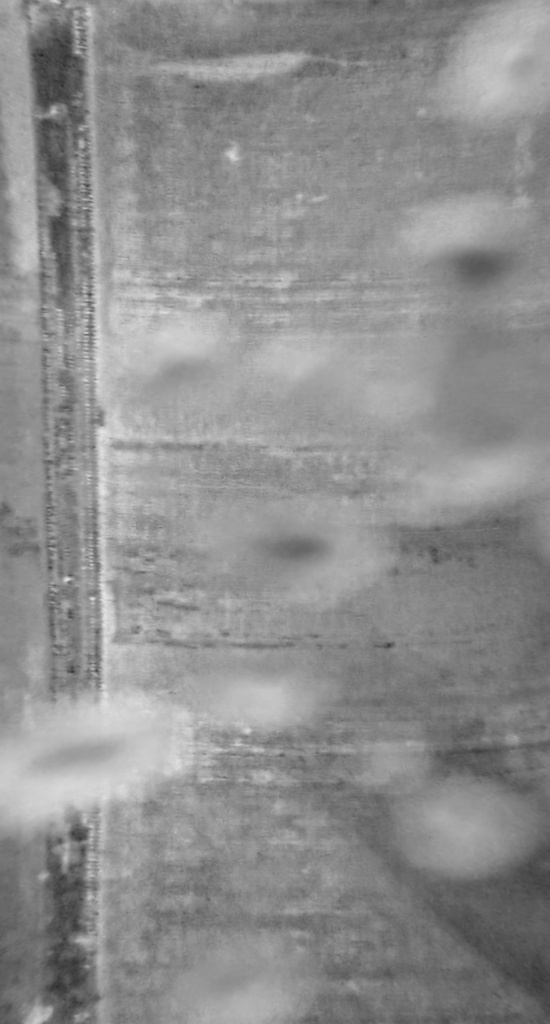splice: (23, 1, 120, 1024)
